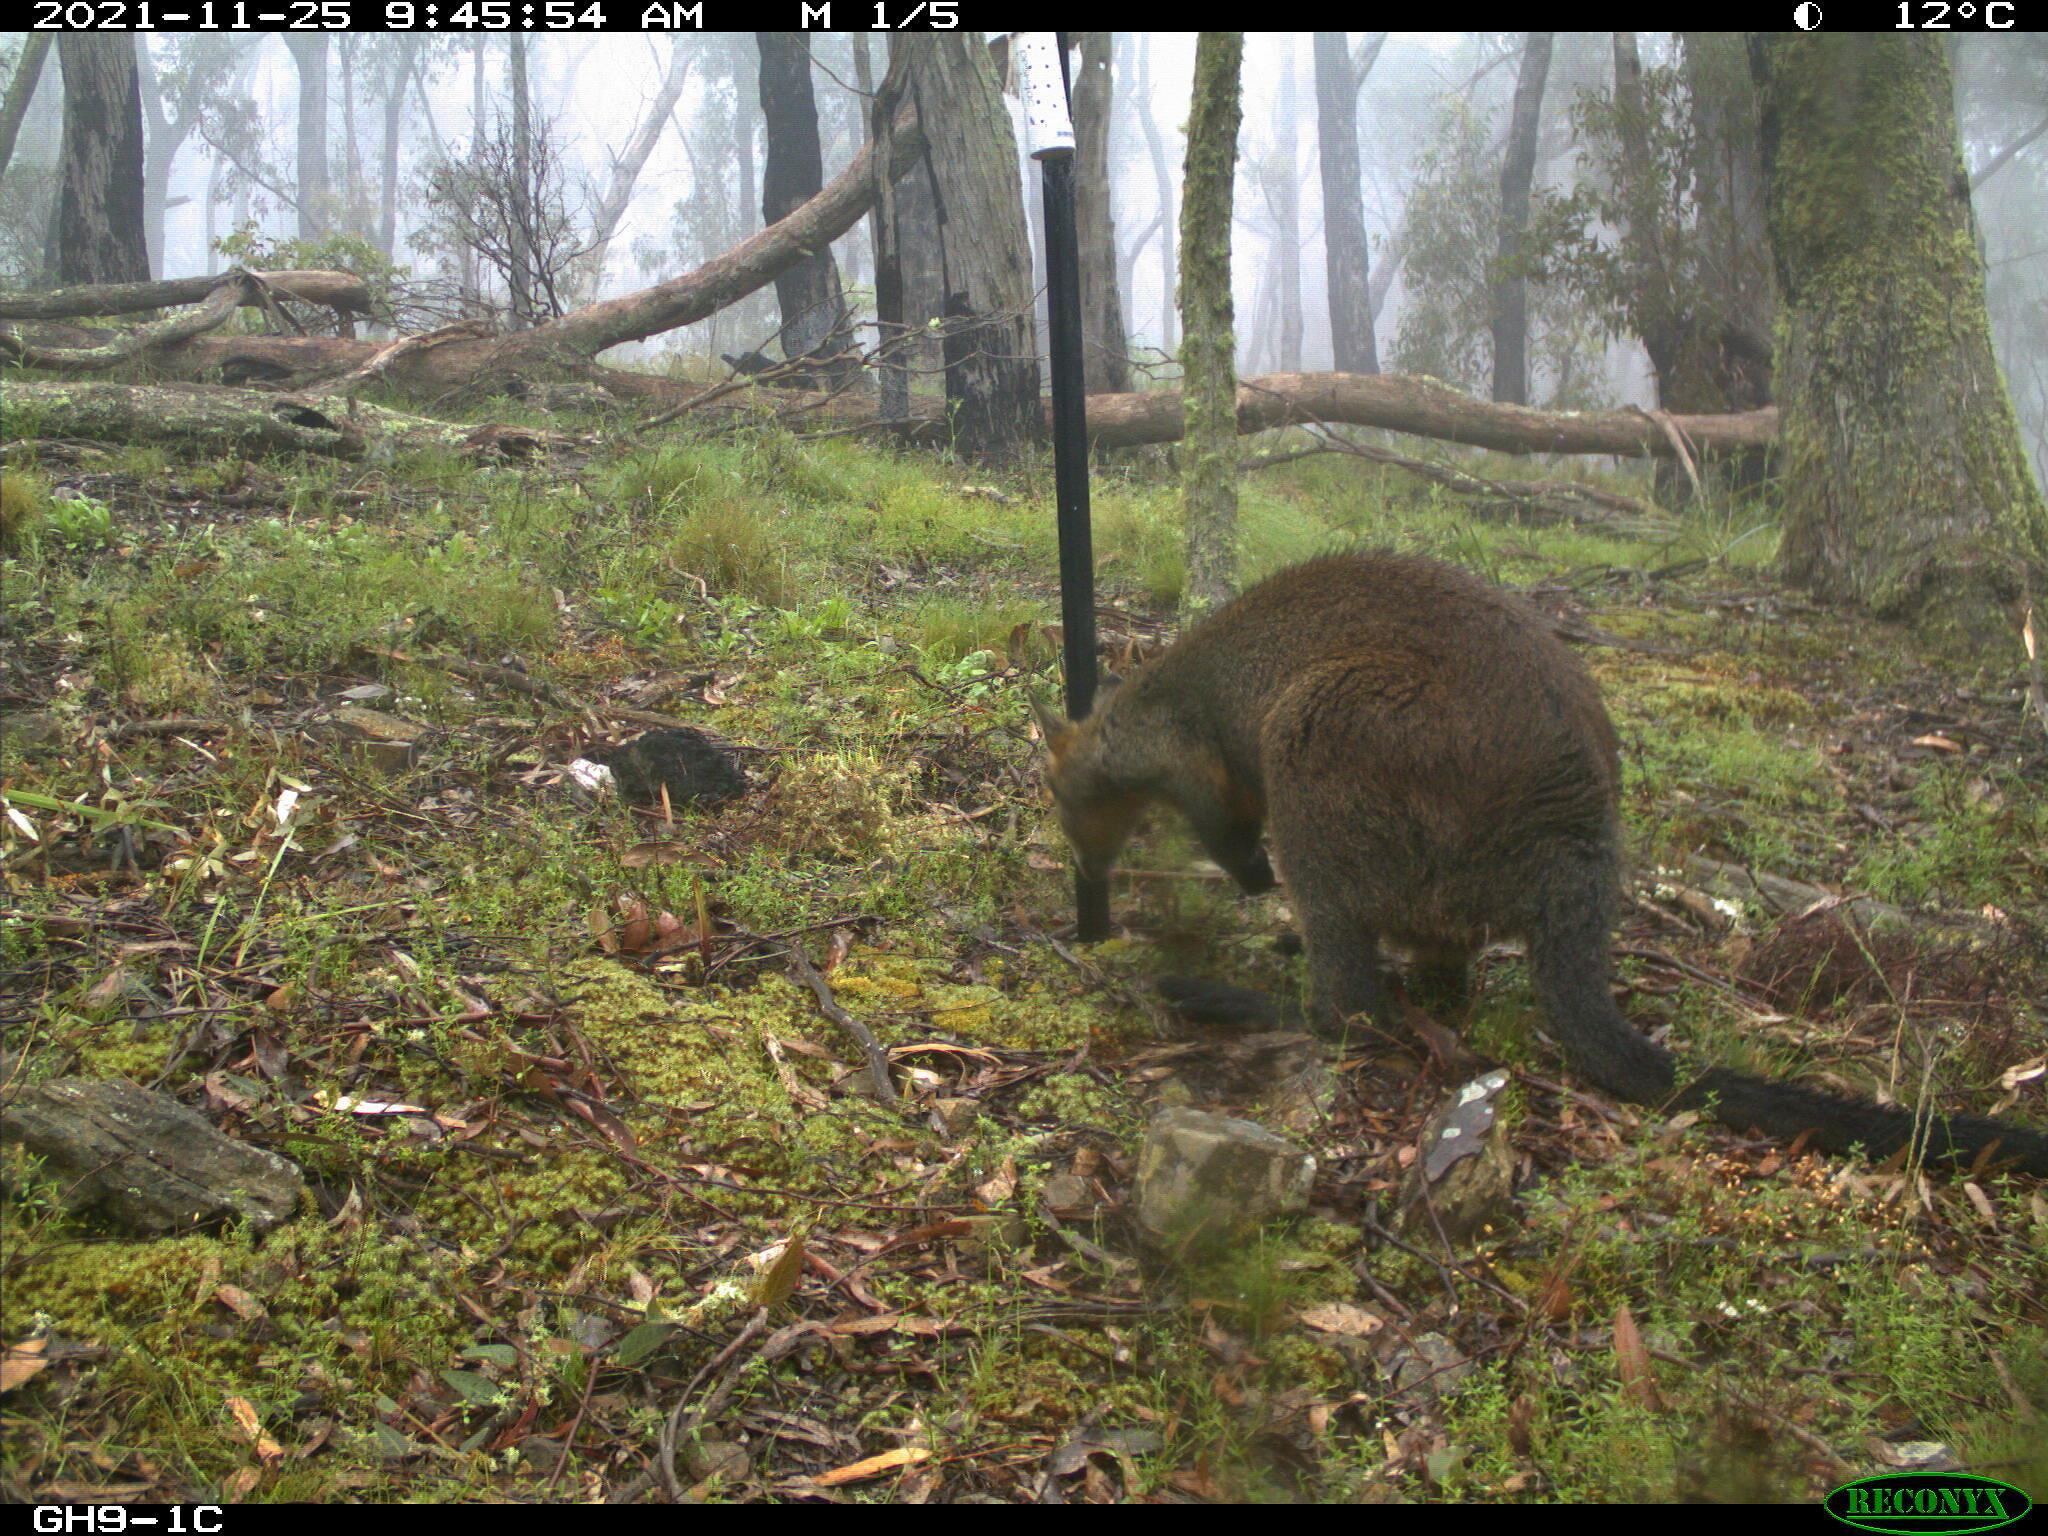Swamp wallaby: (1027, 550, 2047, 1175)
